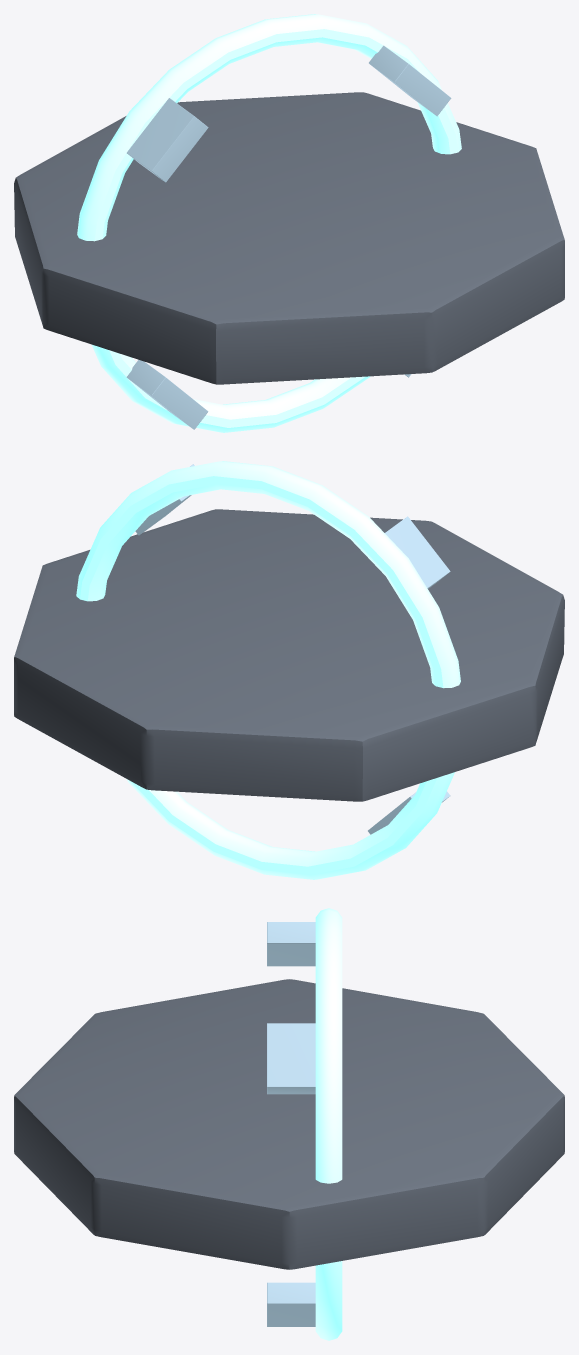
Rendered from broken_halo_pad.glb.
3 renders of one model, top to bottom at view 1: azimuth 30°, elevation 25°; view 2: azimuth 150°, elevation 25°; view 3: azimuth 270°, elevation 25°, orthographic. The views are drawn at different scales.
Visible parts, largest first — view 1: PadBase, PadRing, PadFin_135, PadFin_45, PadFin_225; view 2: PadBase, PadRing, PadFin_135; view 3: PadBase, PadRing, PadFin_45, PadFin_135, PadFin_315.
Part boxes in pixels (x1=…): PadBase: x1=14, y1=92, x2=564, y2=384; PadRing: x1=77, y1=14, x2=461, y2=432; PadFin_135: x1=127, y1=98, x2=208, y2=182; PadFin_45: x1=369, y1=45, x2=451, y2=116; PadFin_225: x1=126, y1=359, x2=208, y2=429; PadBase: x1=14, y1=509, x2=564, y2=801; PadRing: x1=76, y1=461, x2=460, y2=879; PadFin_135: x1=385, y1=516, x2=450, y2=588; PadBase: x1=14, y1=979, x2=564, y2=1269; PadRing: x1=315, y1=908, x2=342, y2=1340; PadFin_45: x1=267, y1=1023, x2=315, y2=1094; PadFin_135: x1=267, y1=922, x2=315, y2=966; PadFin_315: x1=267, y1=1282, x2=315, y2=1326.
Size of the model in its own units: 1.95 by 1.54 by 1.95.
